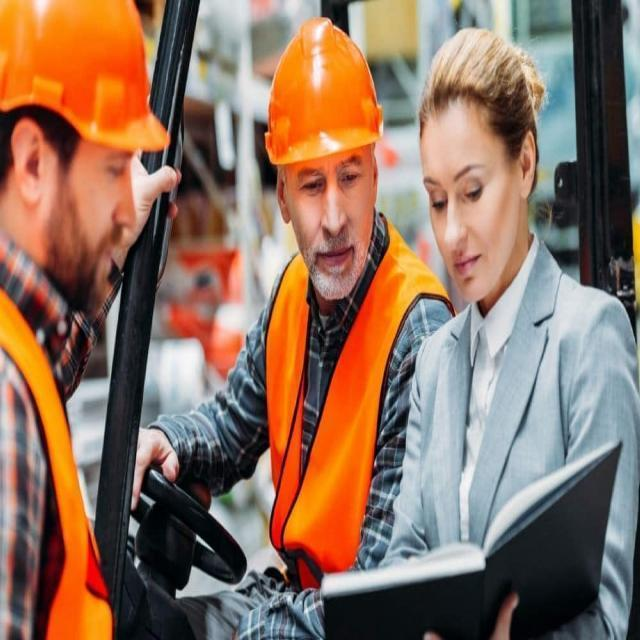No_BreathingApparatus: (65, 130, 155, 277), (282, 227, 380, 294), (427, 225, 506, 300)
No_Glove: (129, 419, 182, 512)
No_Goggles: (421, 152, 503, 219), (286, 151, 371, 203), (85, 145, 149, 187)
No_Harness: (407, 287, 630, 640), (245, 254, 446, 607), (0, 255, 110, 633)
No_Helmet: (415, 25, 545, 139)
Person: (0, 0, 173, 628)
